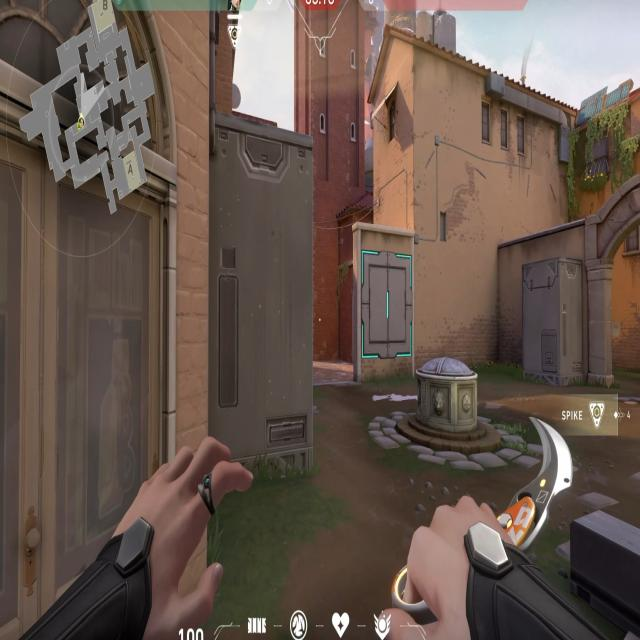Mid_Wall: (362, 246, 414, 366)
